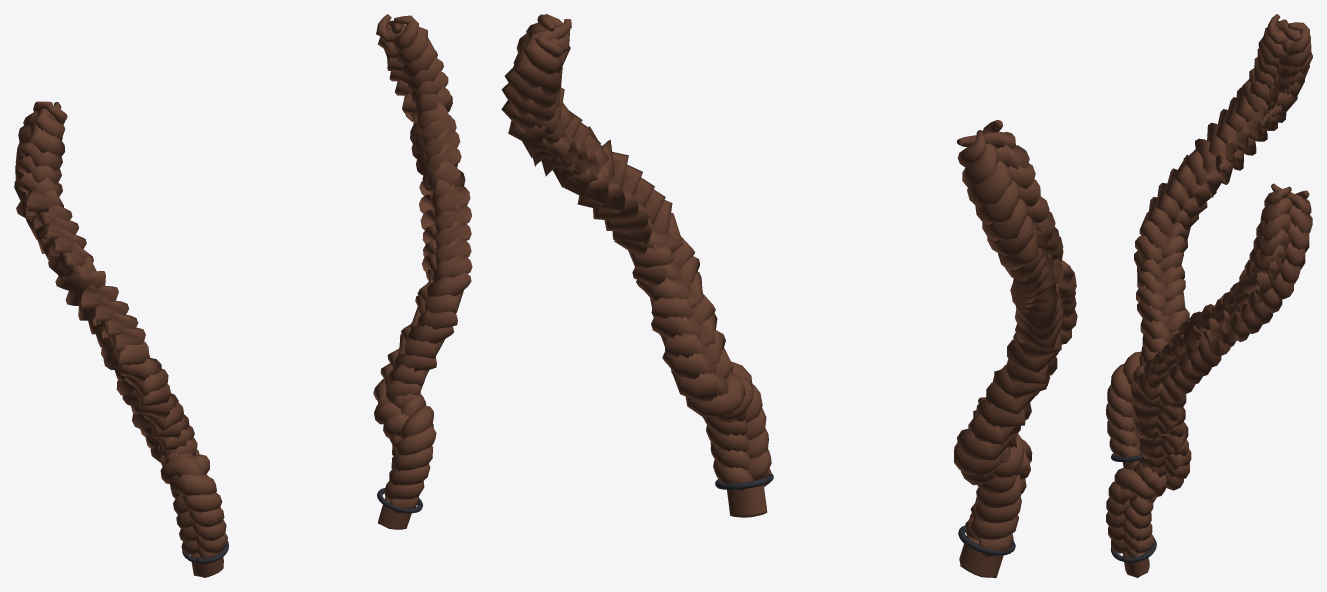
File: Feminine-twin-braids-open-lengths251.glb
3 renders of one model, left to right at view 1: azimuth 30°, elevation 25°; view 2: azimuth 150°, elevation 25°; view 3: azimuth 270°, elevation 25°, orthographic. The views are drawn at different scales.
Parts seen in each view (by area): view 1: 226 hairLengths / Hair / chestnut226, 226 hairLengths / Hair / ties226; view 2: 226 hairLengths / Hair / chestnut226, 226 hairLengths / Hair / ties226; view 3: 226 hairLengths / Hair / chestnut226, 226 hairLengths / Hair / ties226.
Boxes of the visible parts, x1=… form: 226 hairLengths / Hair / chestnut226: x1=14, y1=14, x2=472, y2=577; 226 hairLengths / Hair / ties226: x1=182, y1=488, x2=422, y2=563; 226 hairLengths / Hair / chestnut226: x1=501, y1=14, x2=1077, y2=577; 226 hairLengths / Hair / ties226: x1=715, y1=474, x2=1015, y2=555; 226 hairLengths / Hair / chestnut226: x1=1106, y1=14, x2=1312, y2=577; 226 hairLengths / Hair / ties226: x1=1110, y1=453, x2=1156, y2=562.
Size of the model in its own units: 1.09 by 1.05 by 0.4628.
